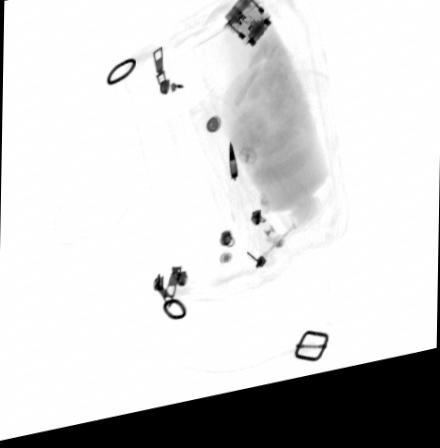Bullet: (228, 150, 237, 189)
